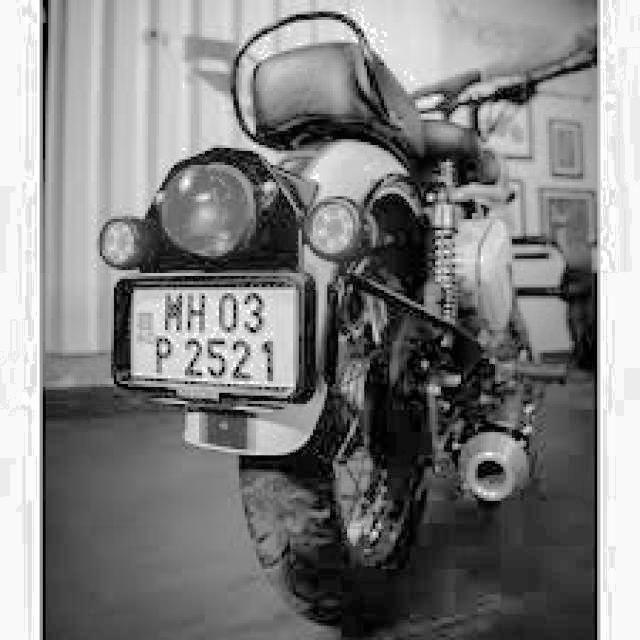Bike: (100, 3, 584, 640)
